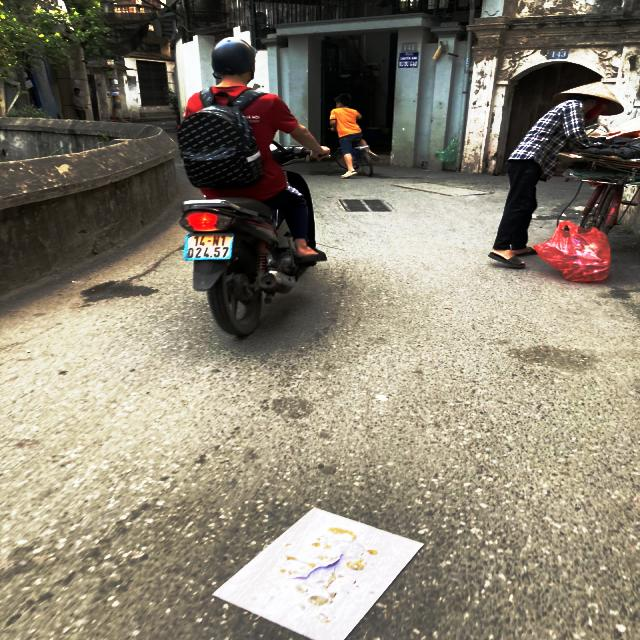license_plate: (182, 232, 235, 260)
